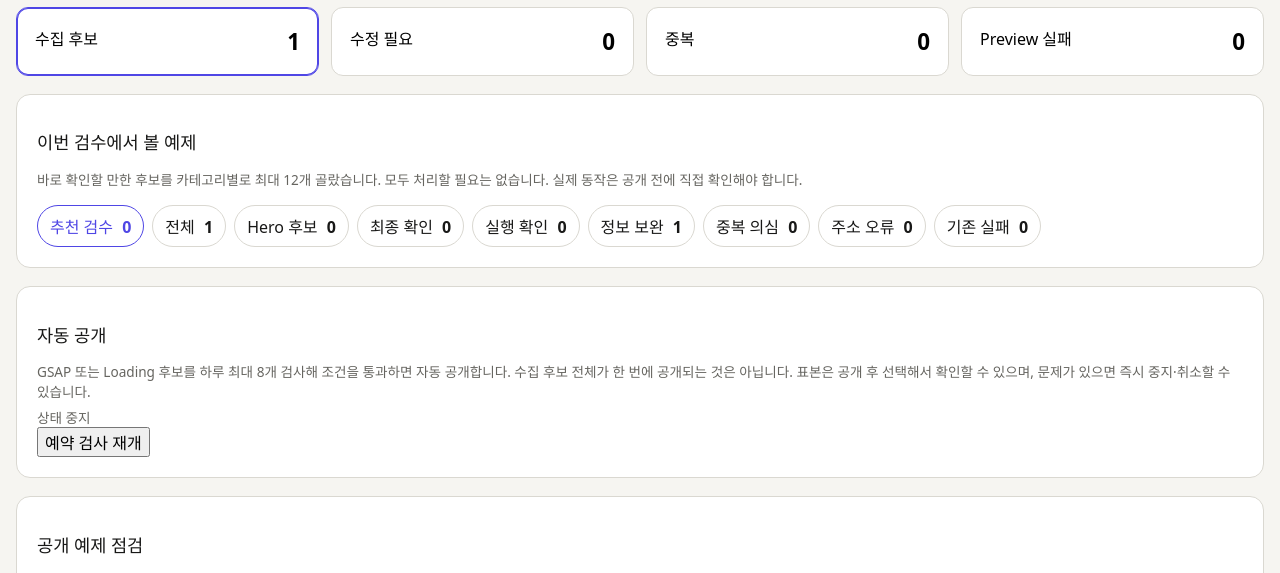
AdminReviewView › 승인 조건이 부족하면 버튼에서 이유를 안내하고 공개 요청을 보내지 않는다
Click the button "정보 보완 1": (641, 226) [588,205,695,247]
(page scrolled)
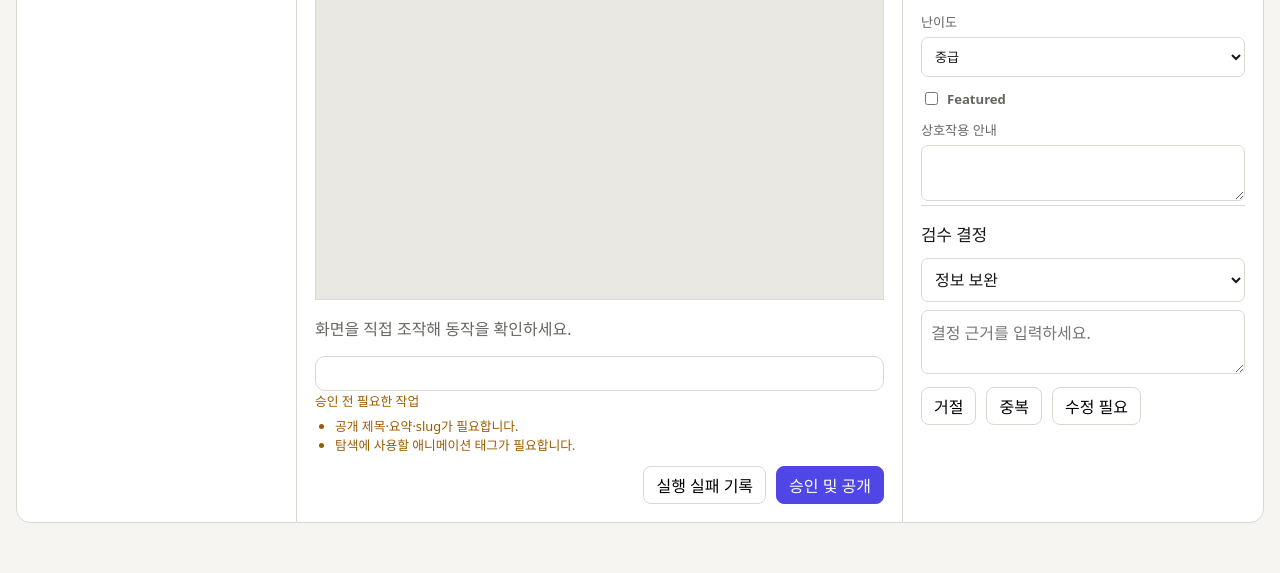
expect the text "승인 전 필요한 작업" is shown: met, box [315,392,419,410]
Click the button with class "approve": (830, 485) [776,466,884,504]
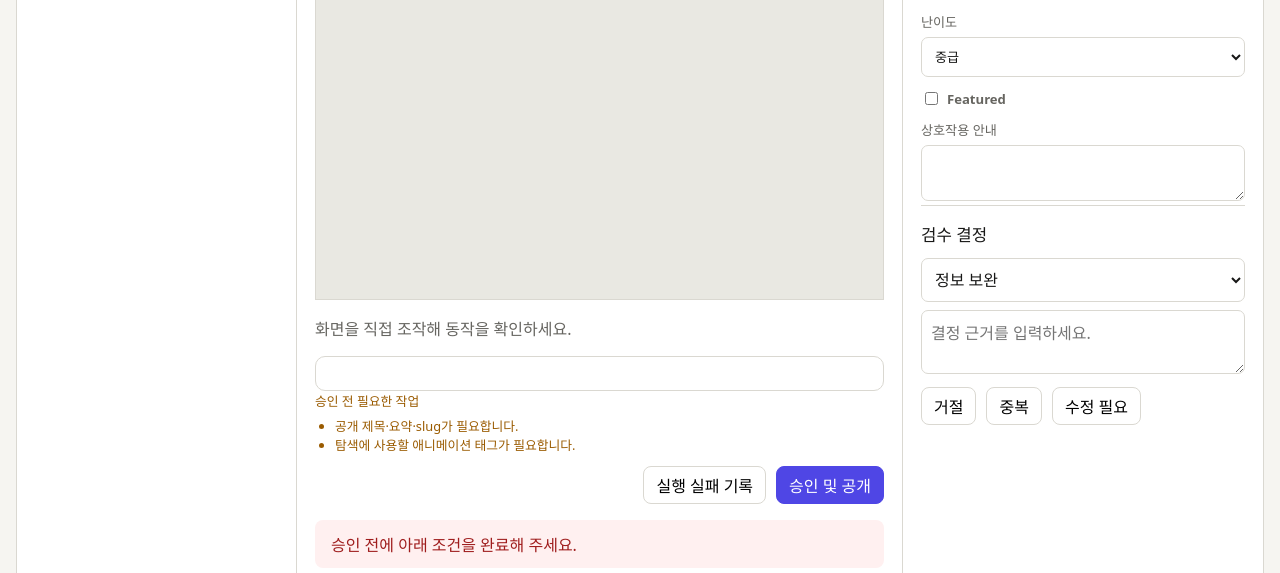
expect the text "탐색에 사용할 애니메이션 태그가 필요합니다." is shown: met, box [335,436,575,454]
expect the message "승인 전에 아래 조건을 완료해 주세요." is shown: met, box [315,520,884,568]
